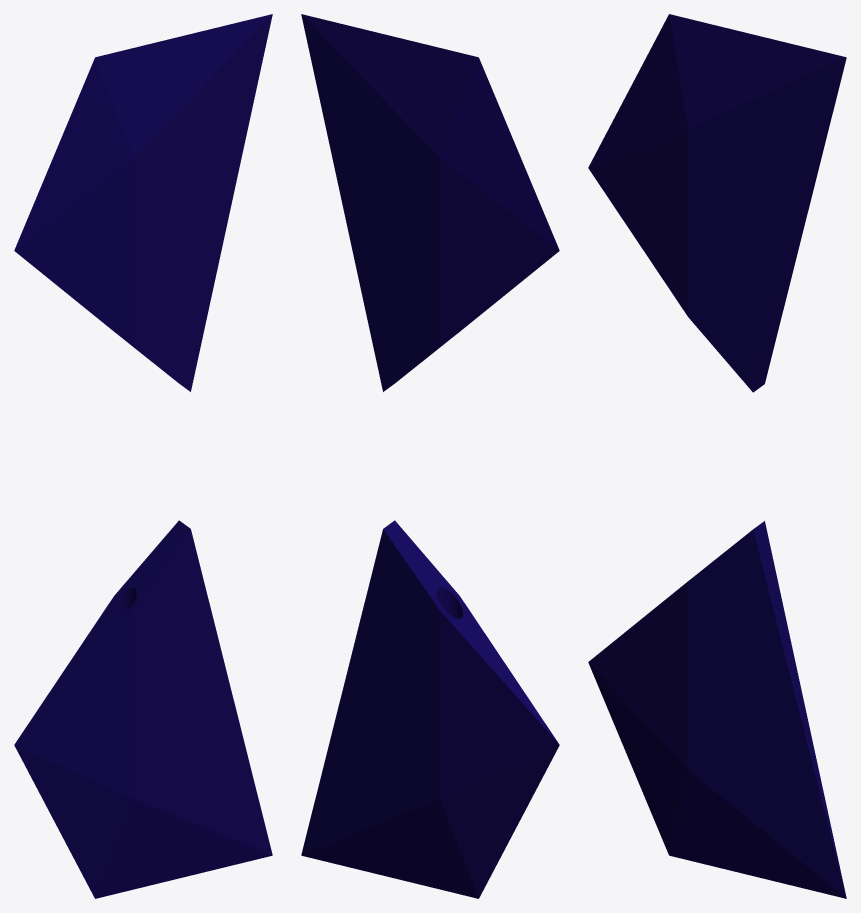
Rendered from fin_pair_v.fbx.
3 views of the same model, side by side, from view 1: azimuth 30°, elevation 25°; view 2: azimuth 150°, elevation 25°; view 3: azimuth 330°, elevation 25° (orthographic).
Visible parts, largest first — view 1: fin_pair_v; view 2: fin_pair_v; view 3: fin_pair_v.
Boxes of the visible parts, <box> form: fin_pair_v: <box>14,14,272,898</box>; fin_pair_v: <box>301,14,559,898</box>; fin_pair_v: <box>588,14,846,898</box>.
Size of the model in its own units: 22.53 by 3 by 70.06.
